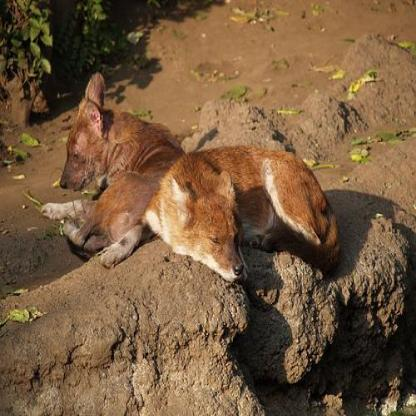dhole: (99, 145, 341, 282), (38, 70, 186, 268)
